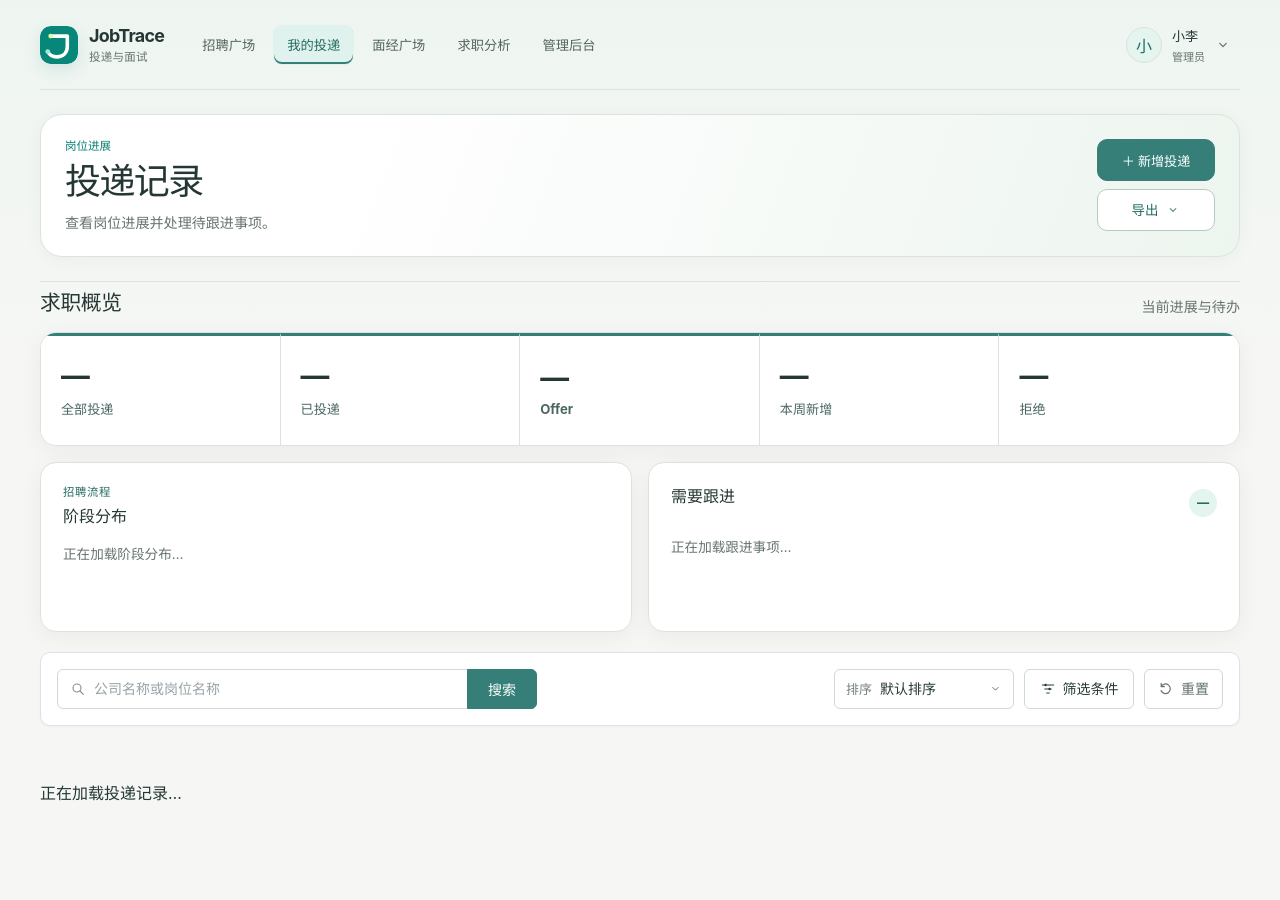
App authentication › allows admins to navigate to the live Java management view
The image size is (1280, 900).
Click the link "管理后台". click: (569, 45)
box: x1=542 y1=37 x2=596 y2=53
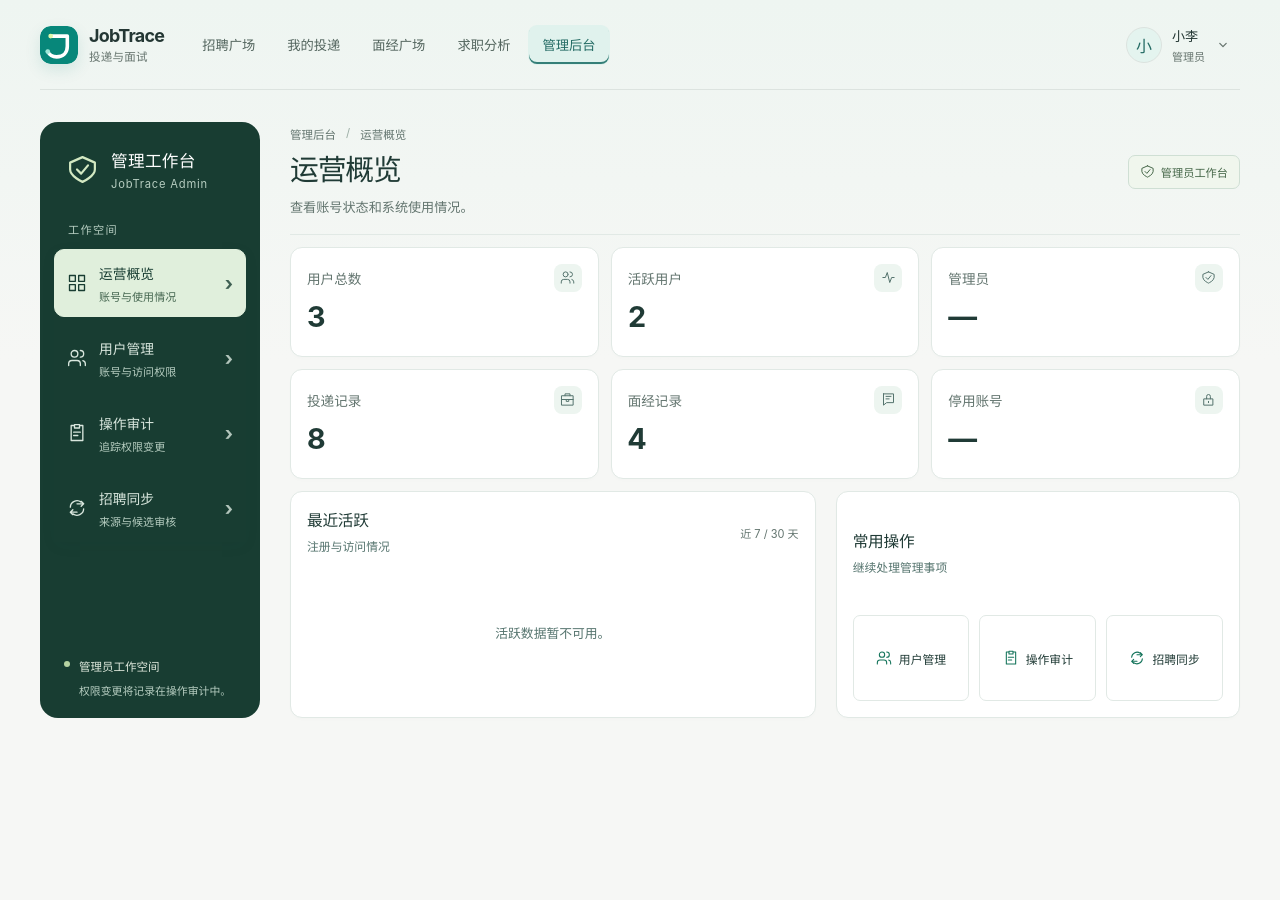
Expected: the heading "运营概览" is shown, x1=290 y1=152 x2=401 y2=187
Expected: the text "活跃数据暂不可用。" is shown, x1=495 y1=626 x2=610 y2=641
